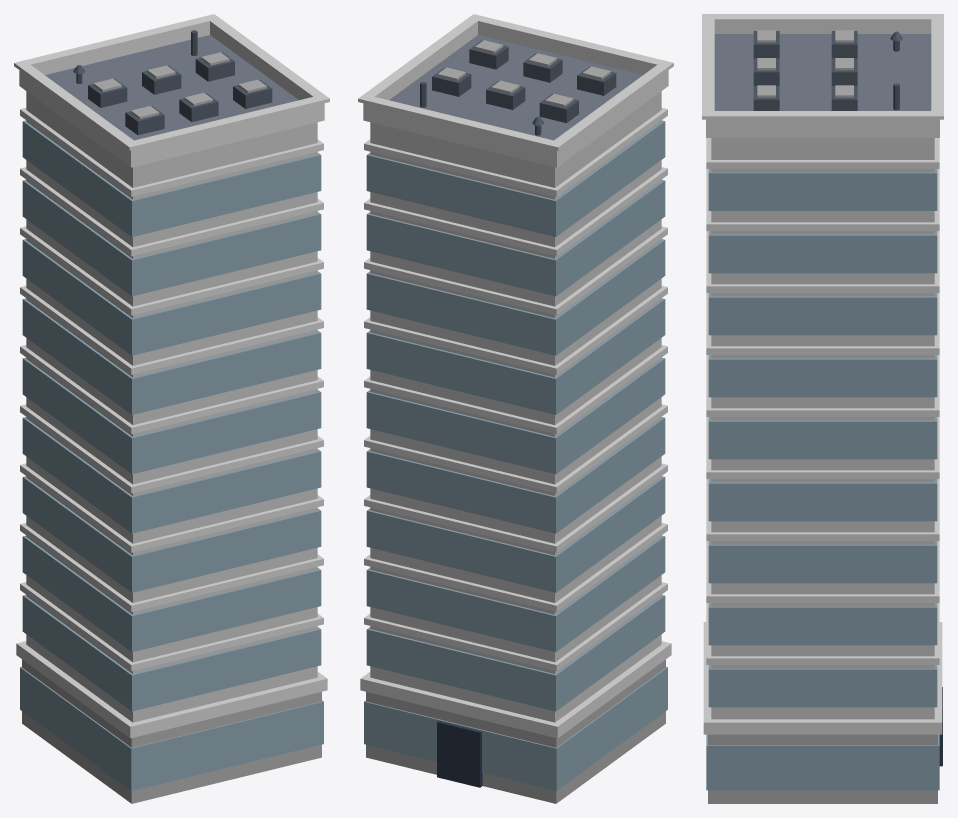
Rendered from building_medium_office.glb.
3 views of the same model, side by side, from view 1: azimuth 30°, elevation 25°; view 2: azimuth 150°, elevation 25°; view 3: azimuth 270°, elevation 25° (orthographic). The views are drawn at different scales.
Parts seen in each view (by area): view 1: building_medium_office; view 2: building_medium_office; view 3: building_medium_office.
Part boxes in pixels (left/top/right/bottom): building_medium_office: left=14, top=14, right=329, bottom=803; building_medium_office: left=358, top=14, right=673, bottom=803; building_medium_office: left=702, top=14, right=943, bottom=803.
Size of the model in its own units: 11.22 by 35.83 by 11.22.
